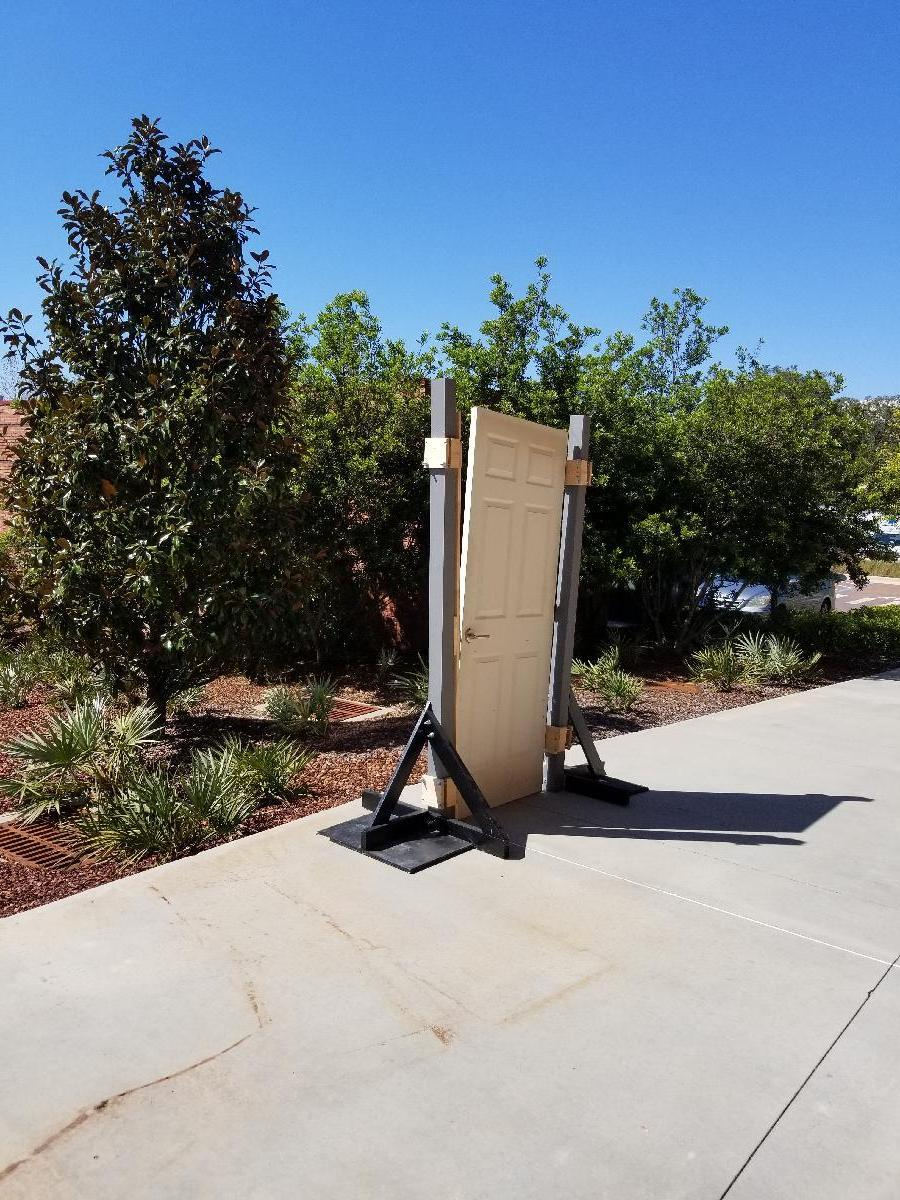door: (454, 407, 569, 820)
handle: (463, 627, 492, 644)
